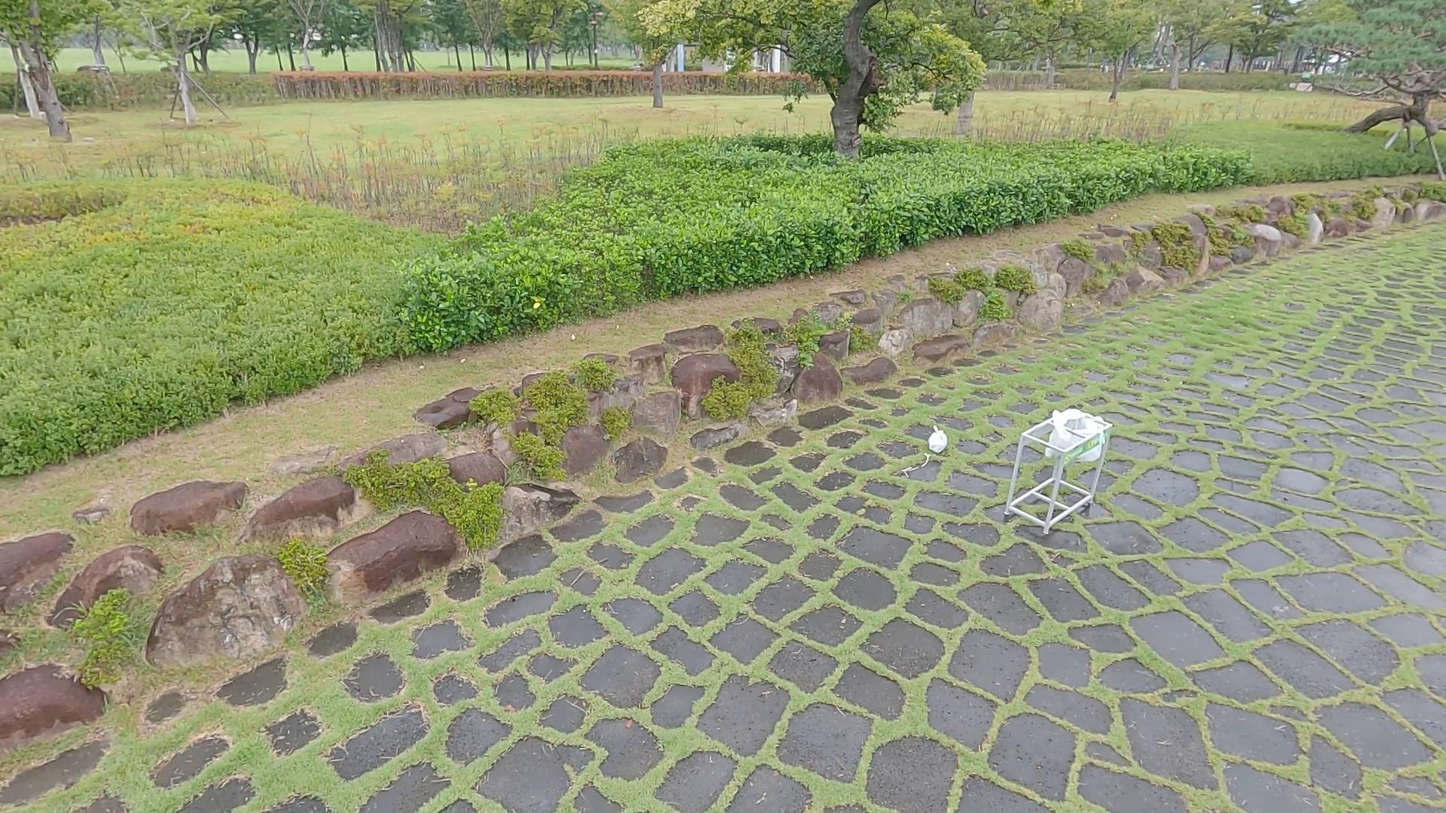trash: (924, 424, 951, 457)
